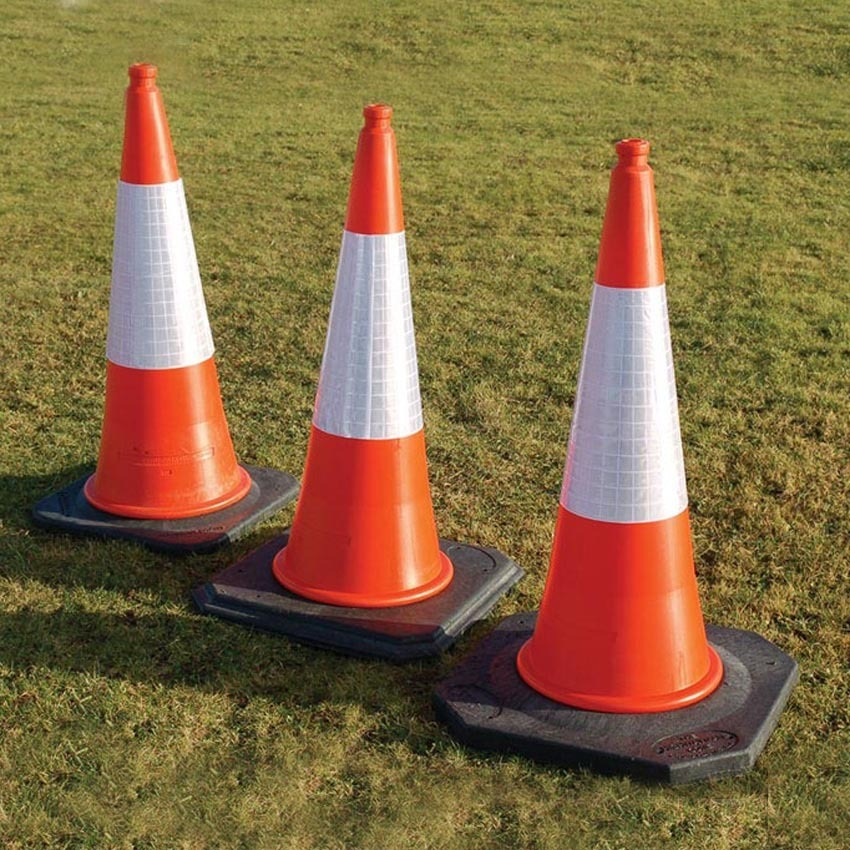cone: (430, 136, 797, 784), (192, 97, 526, 657), (33, 62, 309, 555)
